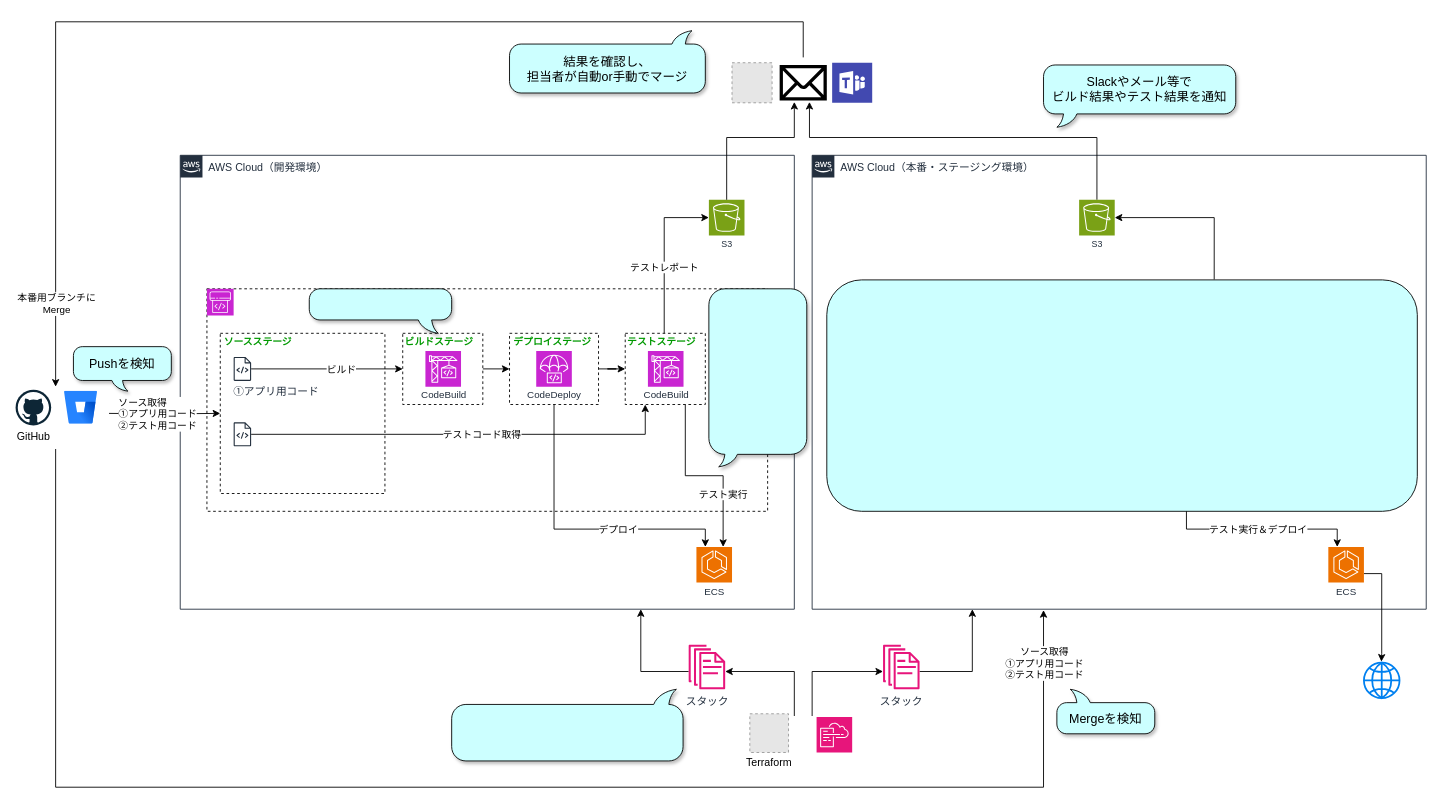
Some shapes in this 1442 by 810 pixel diagram are drawn without their labels. Grey dashed boxes stand in for pictures. Here are the shapes that lost their labels. From the top down, the centre of each, then its label:
the point at 220,302: CodePipeline
the point at 381,312: 各種単体テストを実行
the point at 758,378: デプロイ後のアプリに対してテスト実行 ex) - E2Eテスト - 負荷試験 - APIテスト etc...
the point at 1121,395: 同一構成のため省略
the point at 80,407: Bitbucket
the point at 242,434: ②テスト用コード - E2Eテスト(Playwright) - パフォーマンステスト(Locust )
the point at 1381,680: ユーザーへ公開
the point at 567,726: 構成はコードとして定義・管理 ⇒開発/ステージング/本番環境での 同一構成の実現を容易に
the point at 834,734: CloudFormation
